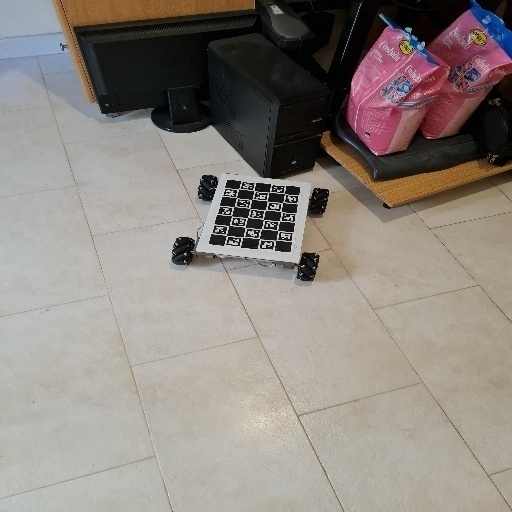Omniwheel: (172, 172, 331, 284)
